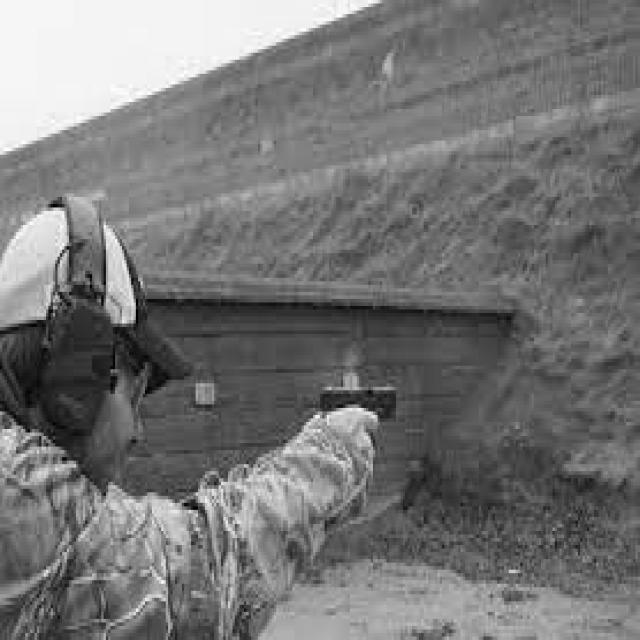gun: (323, 385, 400, 424)
